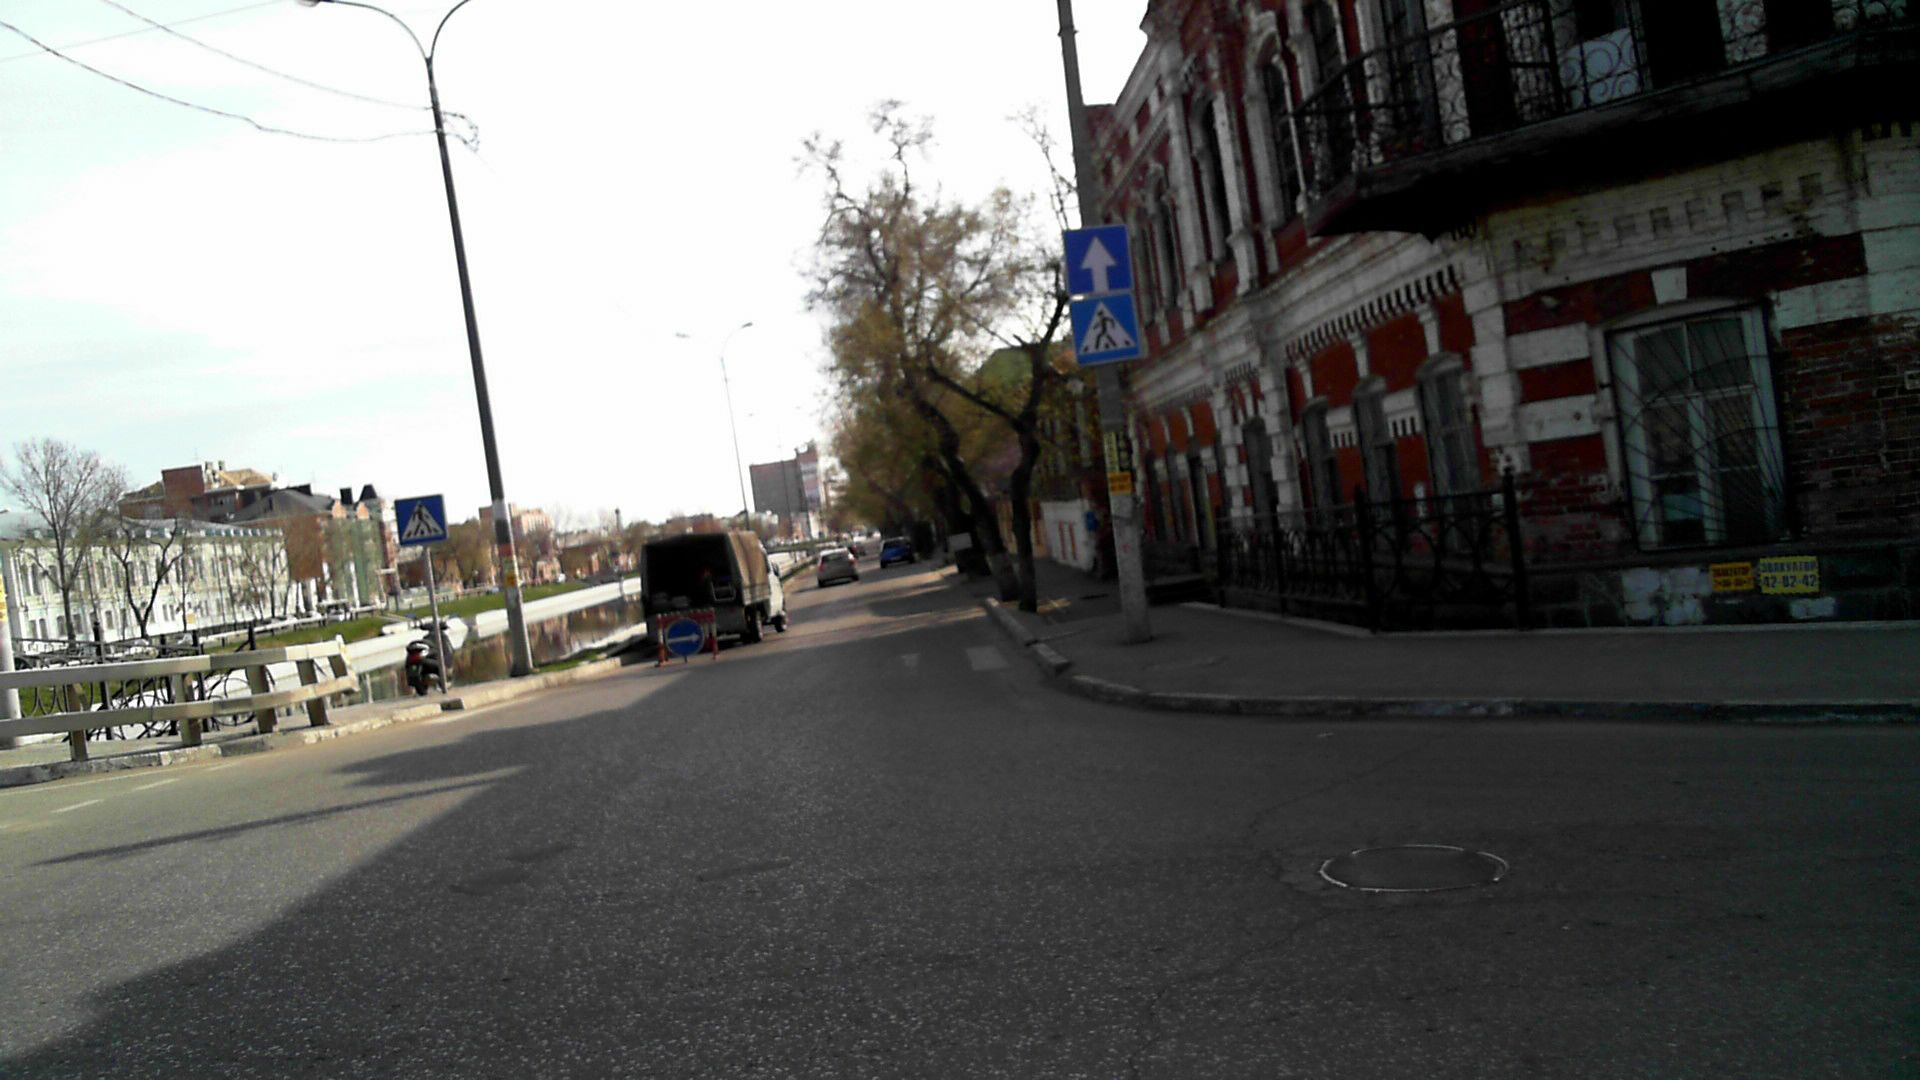Turn Right: (666, 618, 703, 655)
